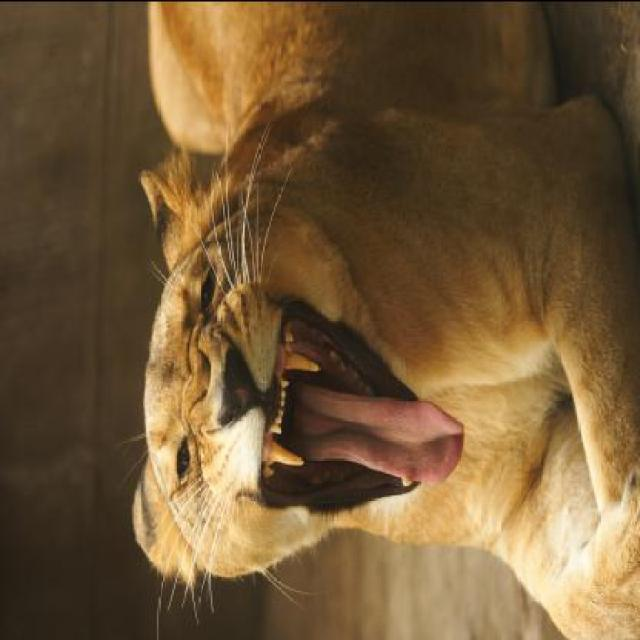Lion: (116, 2, 638, 629)
